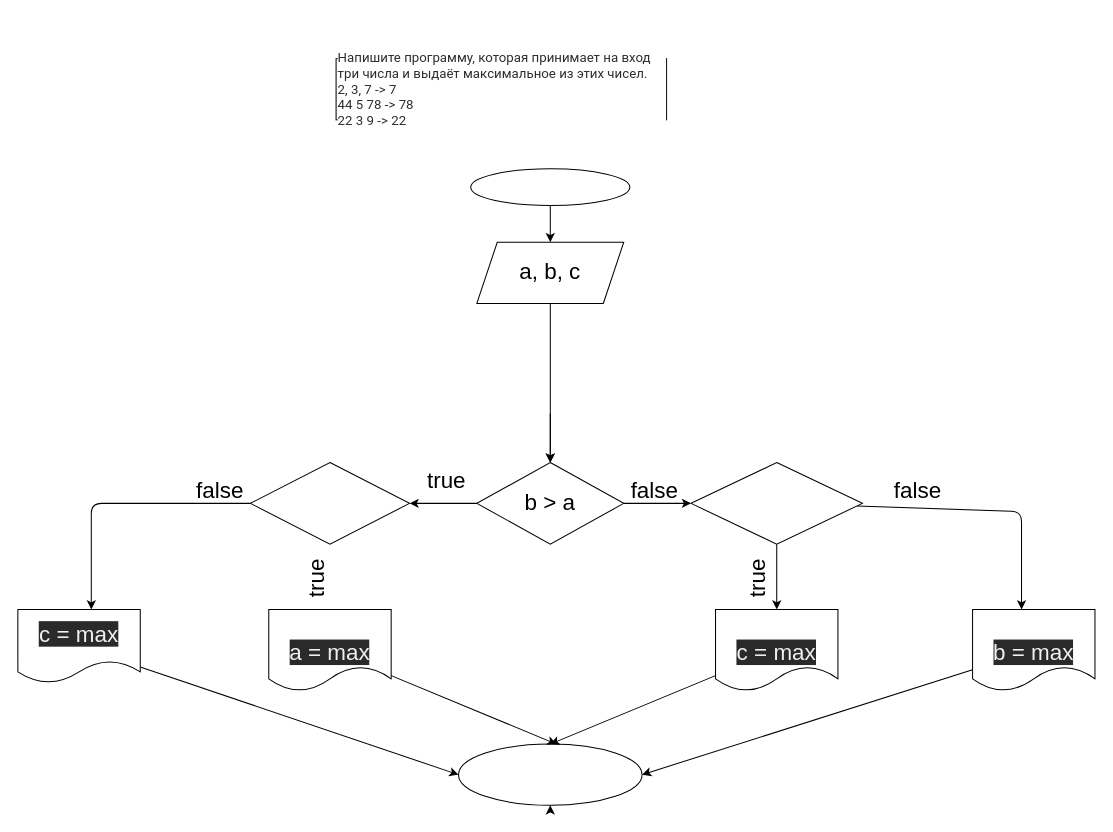
The diagram is 1113 pixels wide and 832 high, and some of its shapes have lost their labels. The shapes that lost their labels are listed below. From the top down, each one's centre as x and y in pixels, then its label:
At pixel 550 187: "start".
At pixel 329 503: "c > a".
At pixel 776 503: "b > c".
At pixel 549 774: "end".
